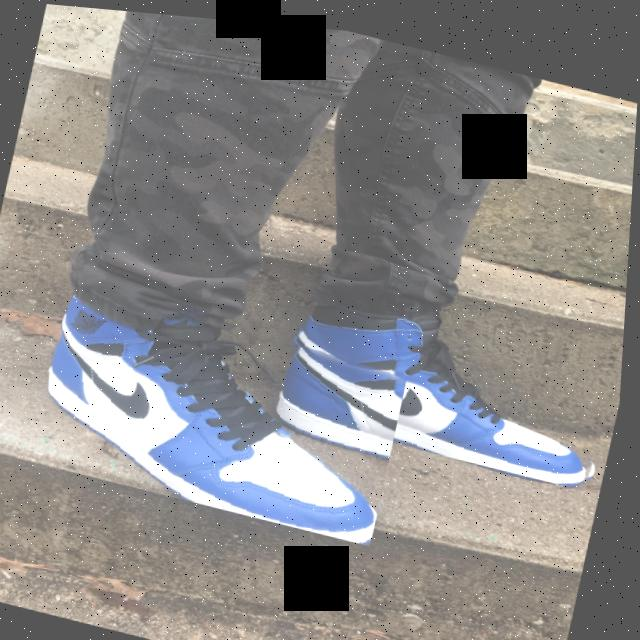shoe: (1, 261, 419, 541), (273, 269, 628, 483)
